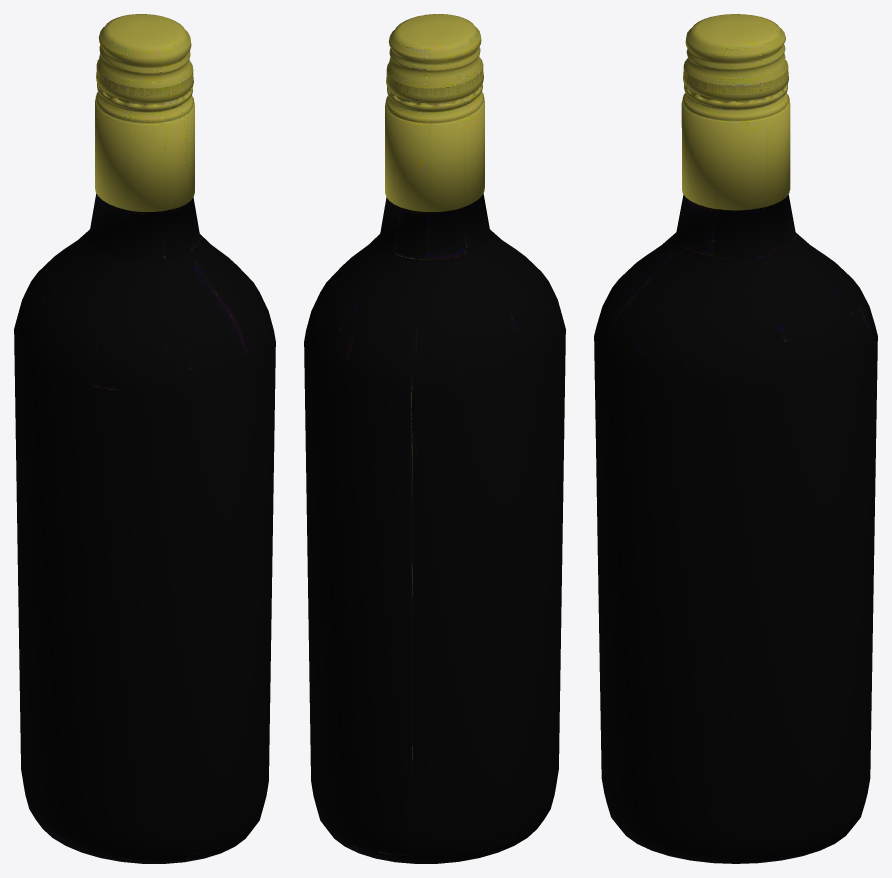
Rendered from vase_71010086_visual.obj.
3 renders of one model, left to right at view 1: azimuth 30°, elevation 25°; view 2: azimuth 150°, elevation 25°; view 3: azimuth 270°, elevation 25°, orthographic.
Size of the model in its own units: 0.0874 by 0.3 by 0.0969.
1 material, 1 textured.
